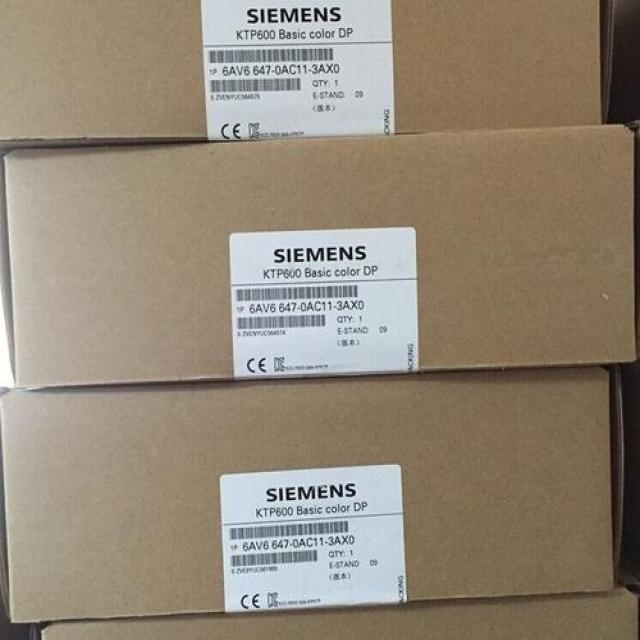box: (0, 123, 639, 390), (0, 364, 623, 624), (29, 590, 639, 639)
